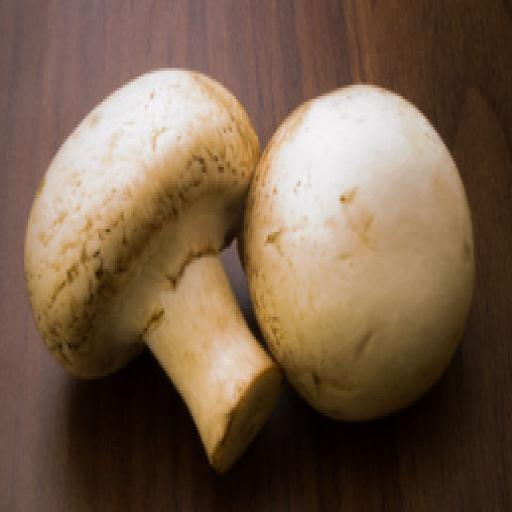Button Mushroom: (22, 67, 285, 478), (250, 83, 474, 427)
